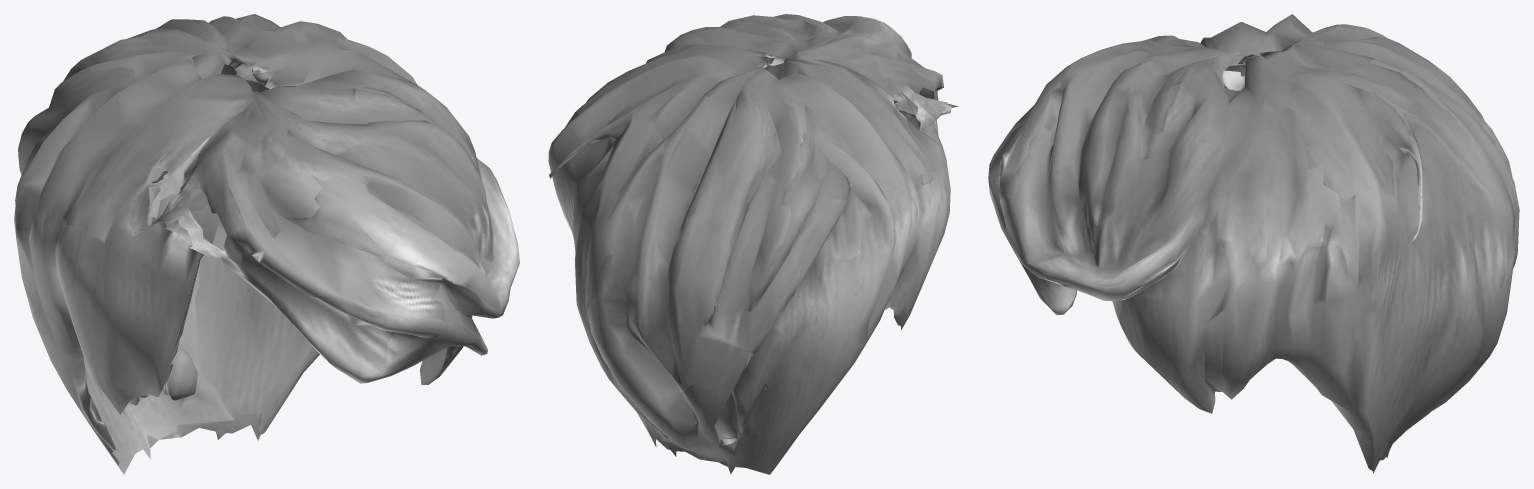
Rendered from pixie.glb.
3 views of the same model, side by side, from view 1: azimuth 30°, elevation 25°; view 2: azimuth 150°, elevation 25°; view 3: azimuth 270°, elevation 25° (orthographic). The views are drawn at different scales.
Parts seen in each view (by area): view 1: pixie; view 2: pixie; view 3: pixie.
Boxes of the visible parts, x1,y1,x2,y2 form: pixie: (14,14,519,474); pixie: (548,14,958,474); pixie: (988,14,1519,473).
Size of the model in its own units: 0.2052 by 0.2173 by 0.2627.
1 material, 1 textured.
